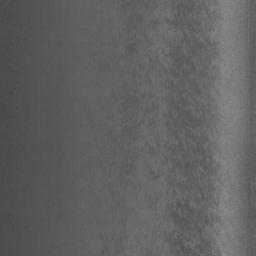Silk spot: (88, 0, 230, 256), (99, 234, 127, 256), (121, 215, 131, 226)
